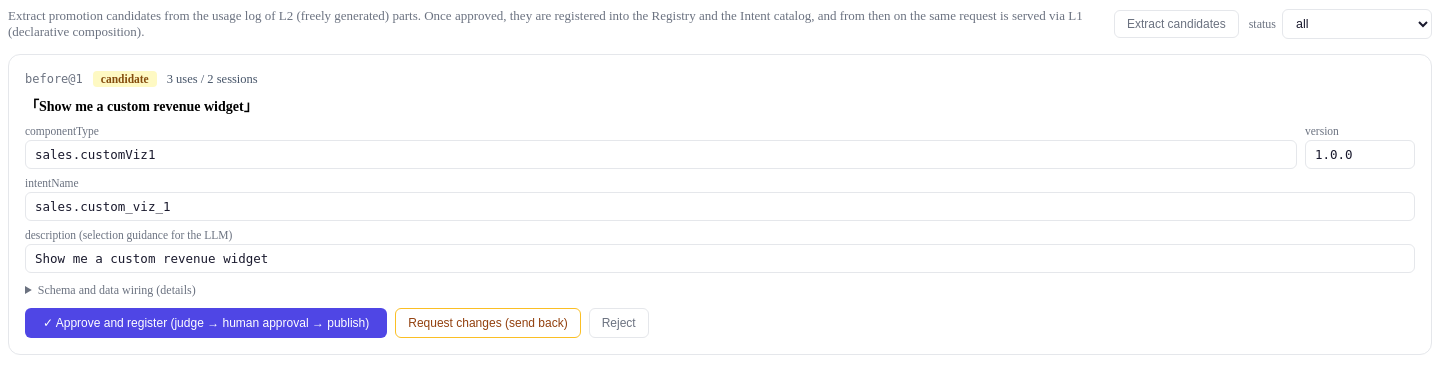
it: PromotionsTab › extracts candidates via the toolbar button (POST /promotions/evaluate) then reloads the list
The width and height of the screenshot is (1440, 372).
Expected: the text "before@1" is shown, [25, 72, 83, 86]
Click the button "Extract candidates" at (1176, 24), box [1114, 10, 1239, 38]
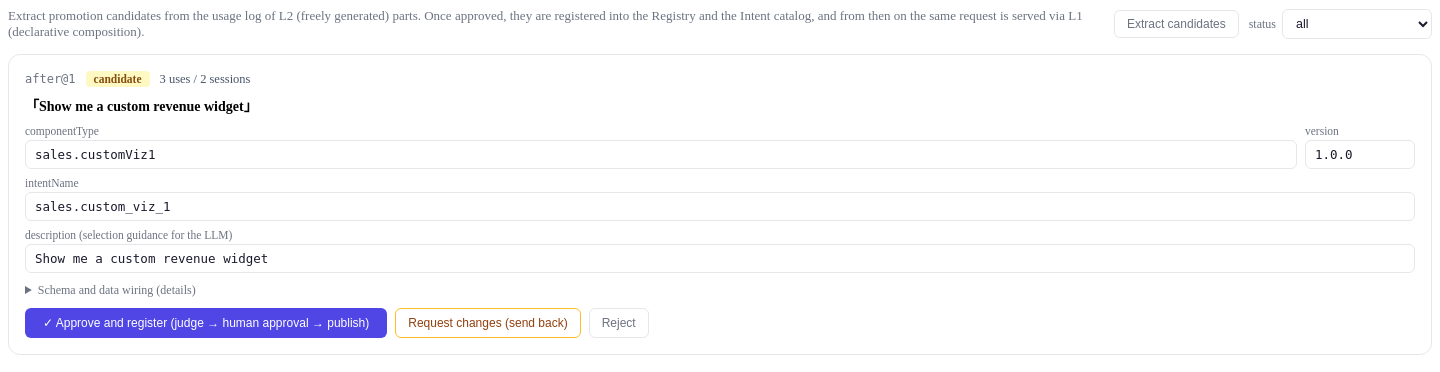
Expected: the text "after@1" is shown, [25, 72, 76, 86]
